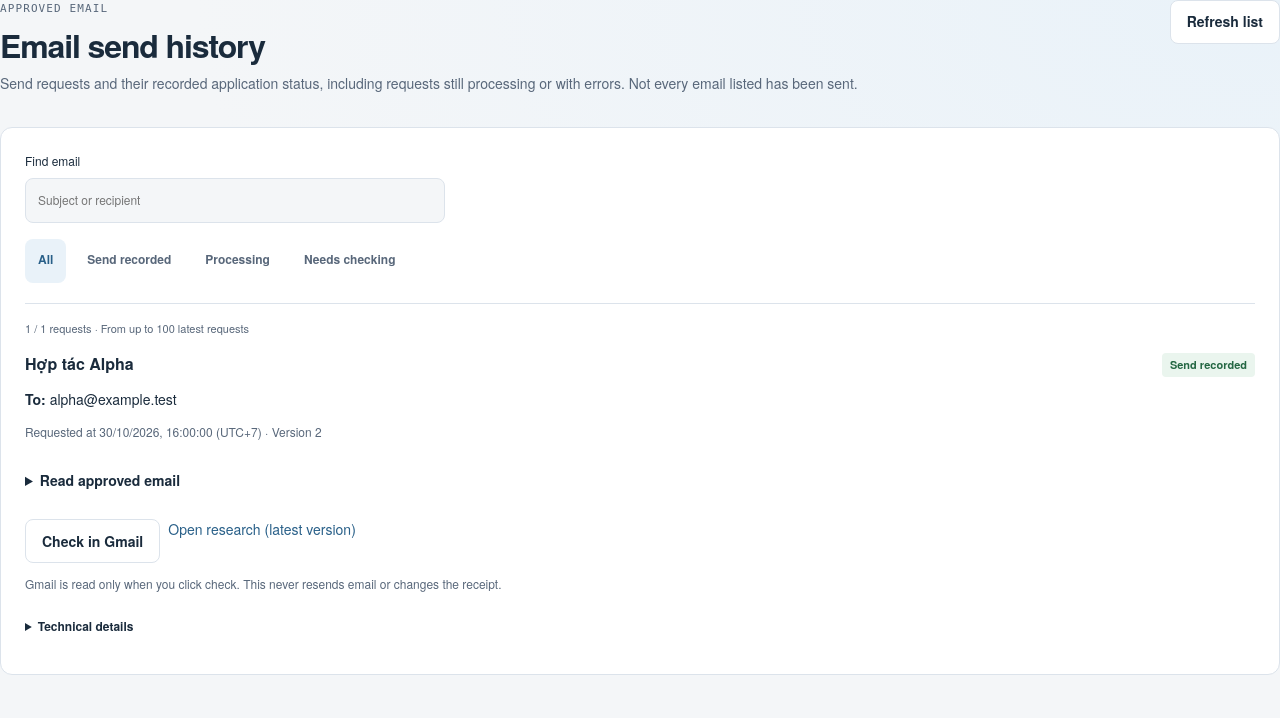
sent history › uses English for controls and verification while preserving approved content
Expected: the heading "Email send history" is shown, 0,22 -> 265,68
Expected: the heading "Hợp tác Alpha" is shown, 25,352 -> 134,375
Type "alpha" into the search field labelled "Find email".
click(235, 201); type("alpha")  # box 25,178 -> 445,223
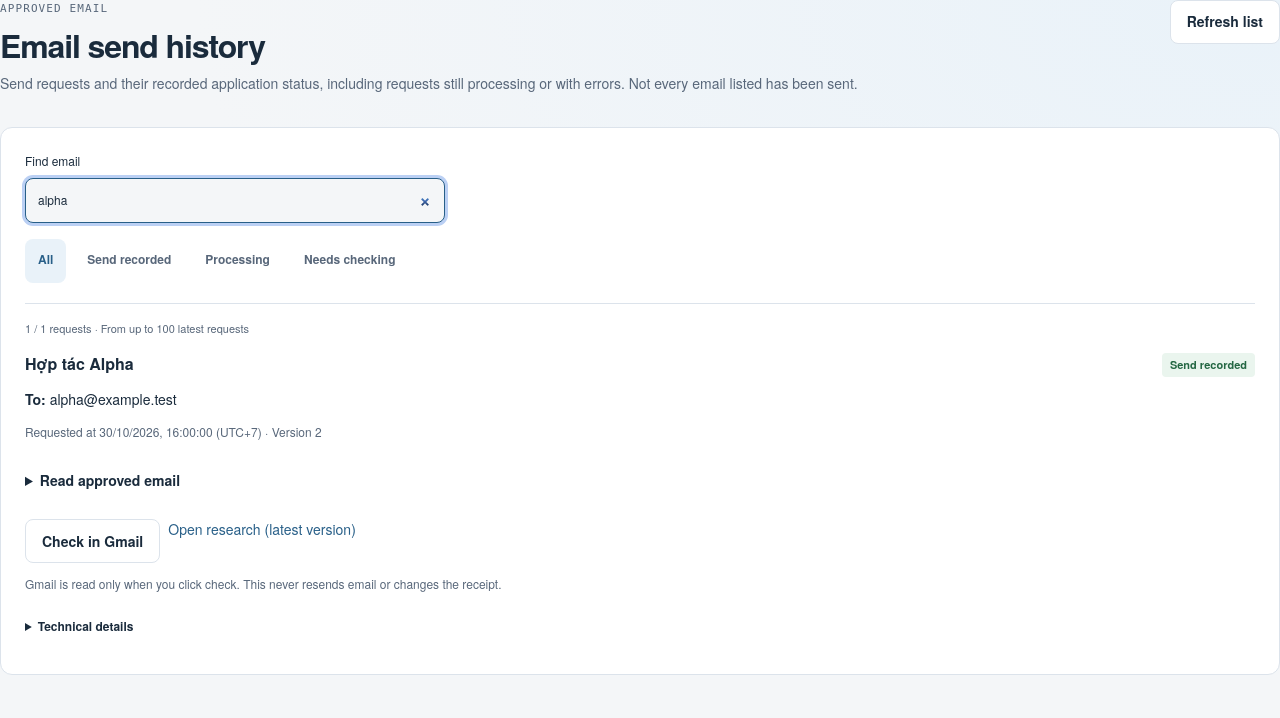
Click the heading "Read approved email".
click(110, 480)  # box 40,470 -> 180,490
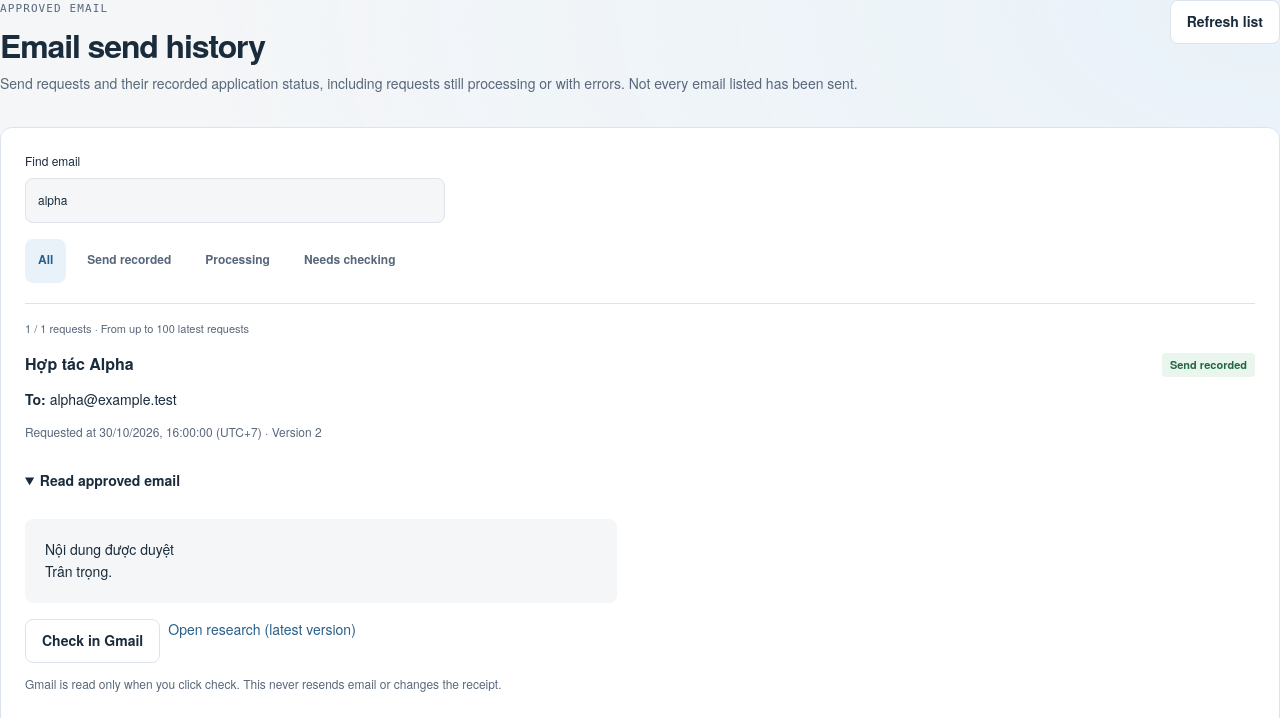
Expected: the text "Nội dung được duyệt Trân trọng." is shown, 25,519 -> 617,603
Click the button "Check in Gmail".
click(93, 641)  # box 25,619 -> 160,663
(page scrolled)
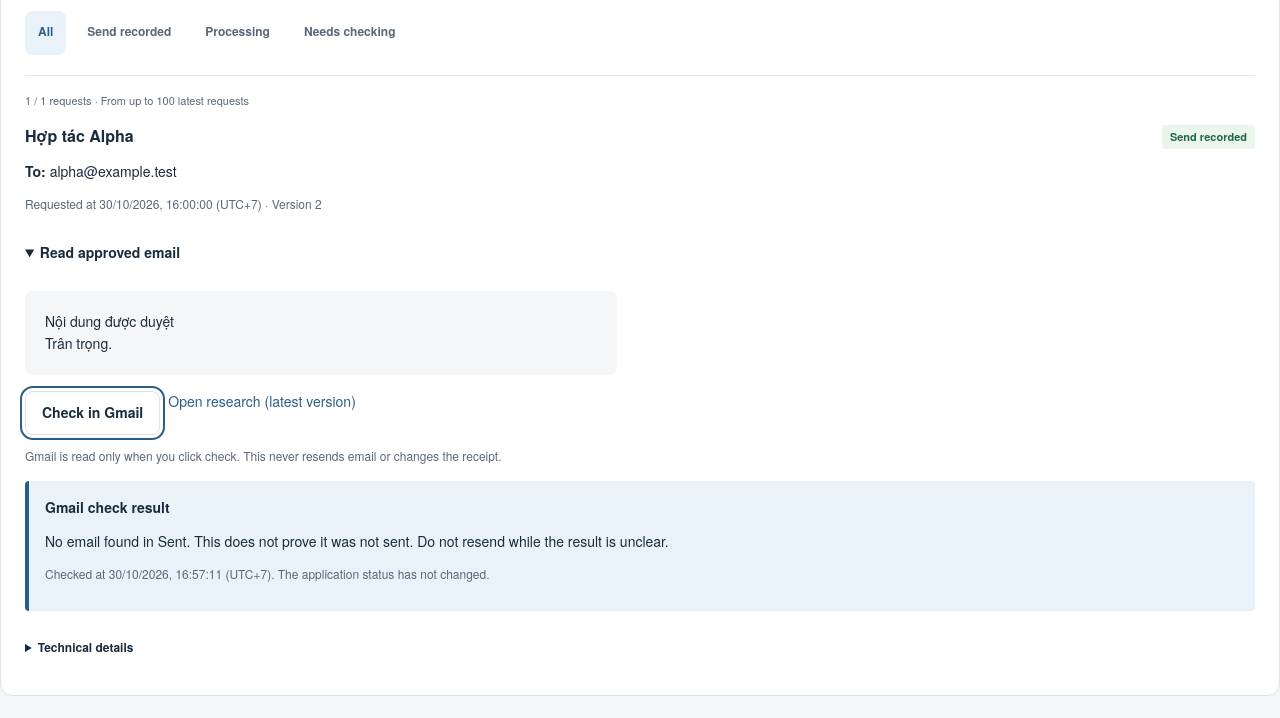
Expected: the text "This does not prove it was not sent" is shown, 45,531 -> 669,551
Expected: the text "The application status has not changed" is shown, 222,565 -> 490,582
